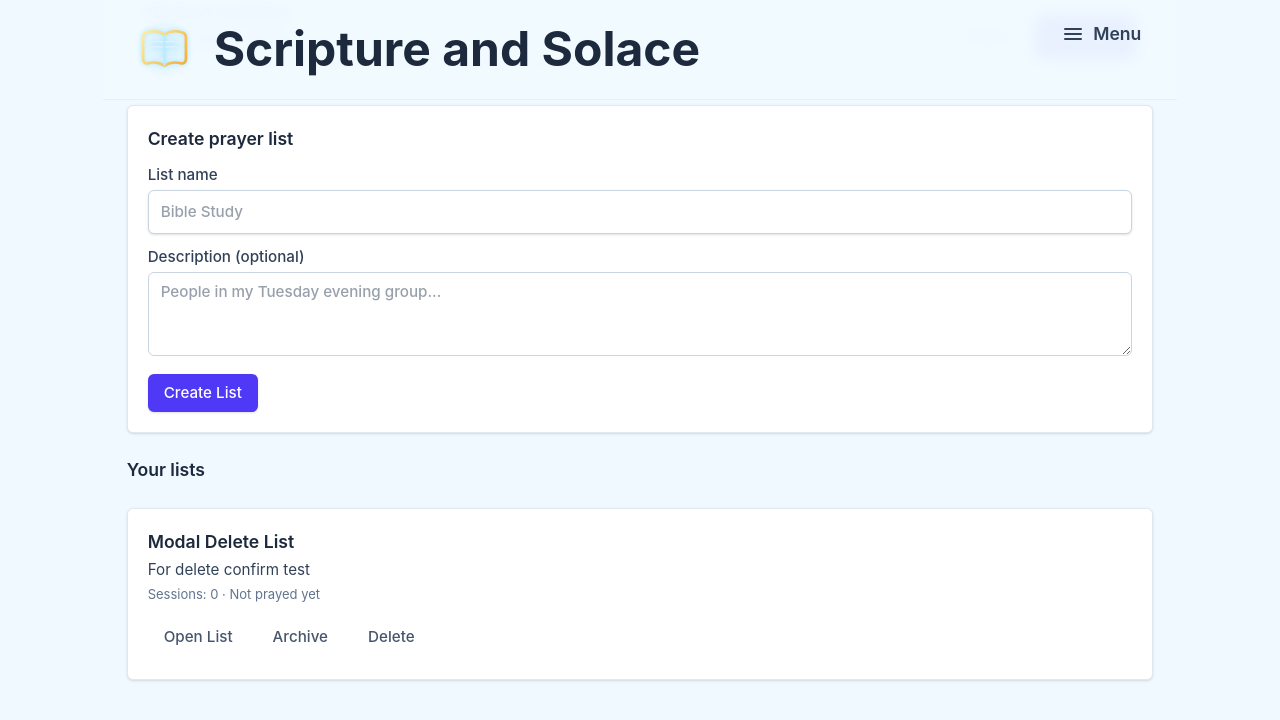
Scenario: App › confirms prayer list delete in a modal
(page scrolled)
Expected: the text "Modal Delete List" is shown, 148,531 -> 294,552
Click the button "Delete" at (391, 637), box 352,615 -> 431,659
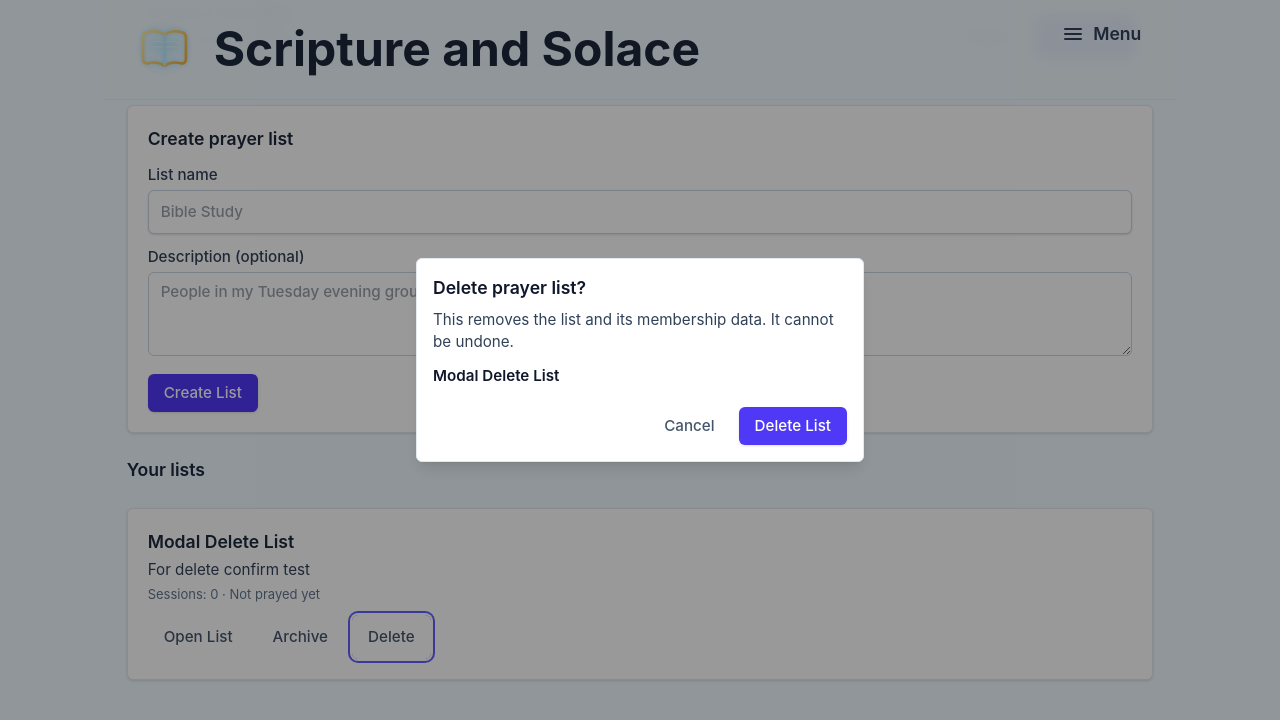
Expected: the heading "Delete prayer list?" is shown, 433,277 -> 586,298
Click the button "Delete list" at (793, 426), box 739,407 -> 847,445
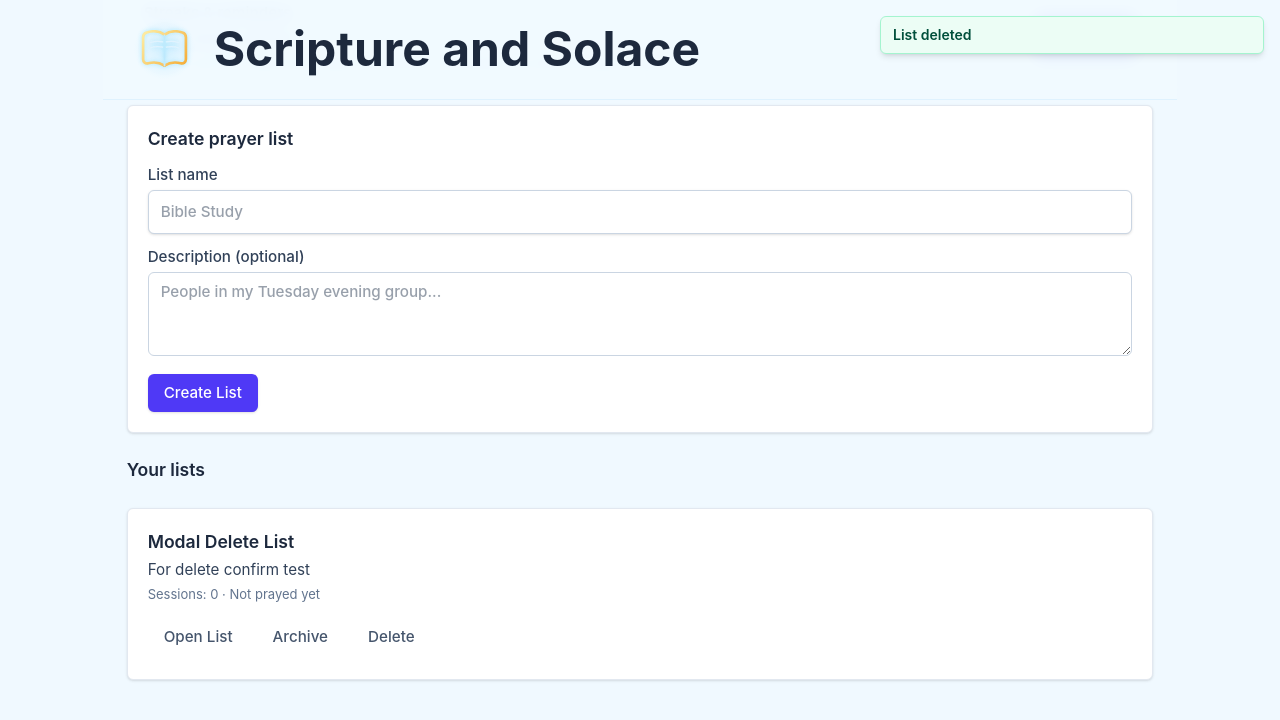
Expected: the text "List deleted" is shown, 893,26 -> 972,43
